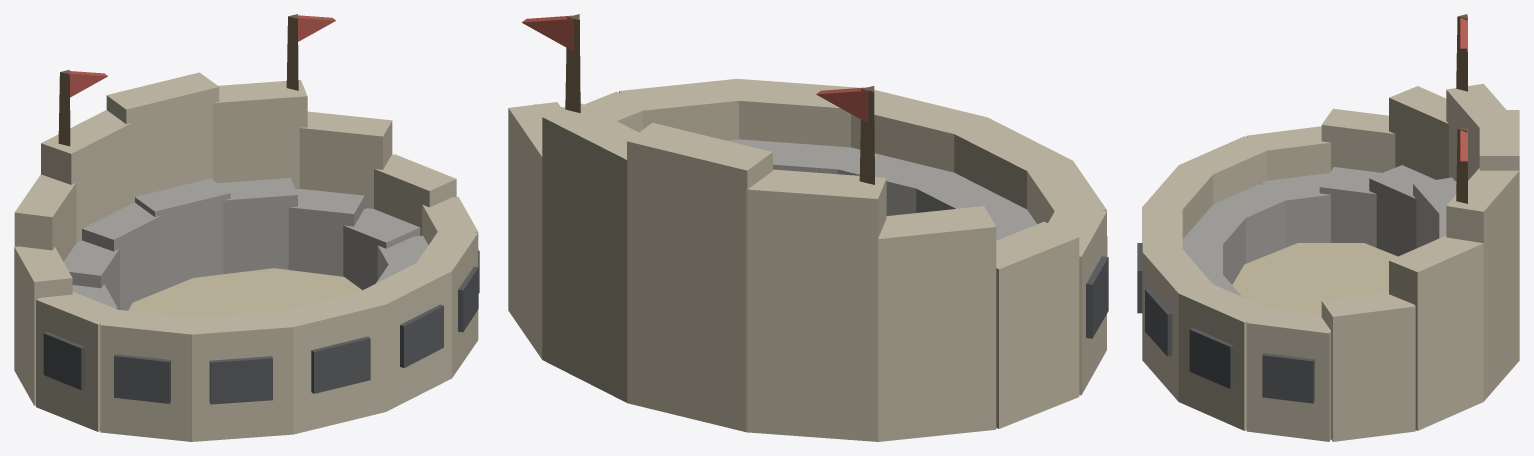
Rendered from arena.glb.
3 renders of one model, left to right at view 1: azimuth 30°, elevation 25°; view 2: azimuth 150°, elevation 25°; view 3: azimuth 270°, elevation 25°, orthographic. The views are drawn at different scales.
Parts seen in each view (by area): view 1: LOD0; view 2: LOD0; view 3: LOD0.
Boxes of the visible parts, x1=… form: LOD0: x1=14, y1=14, x2=479, y2=441; LOD0: x1=508, y1=14, x2=1108, y2=441; LOD0: x1=1137, y1=14, x2=1519, y2=441.
Size of what is drawn, in the model's own units: 0.3714 by 0.23 by 0.2877.
